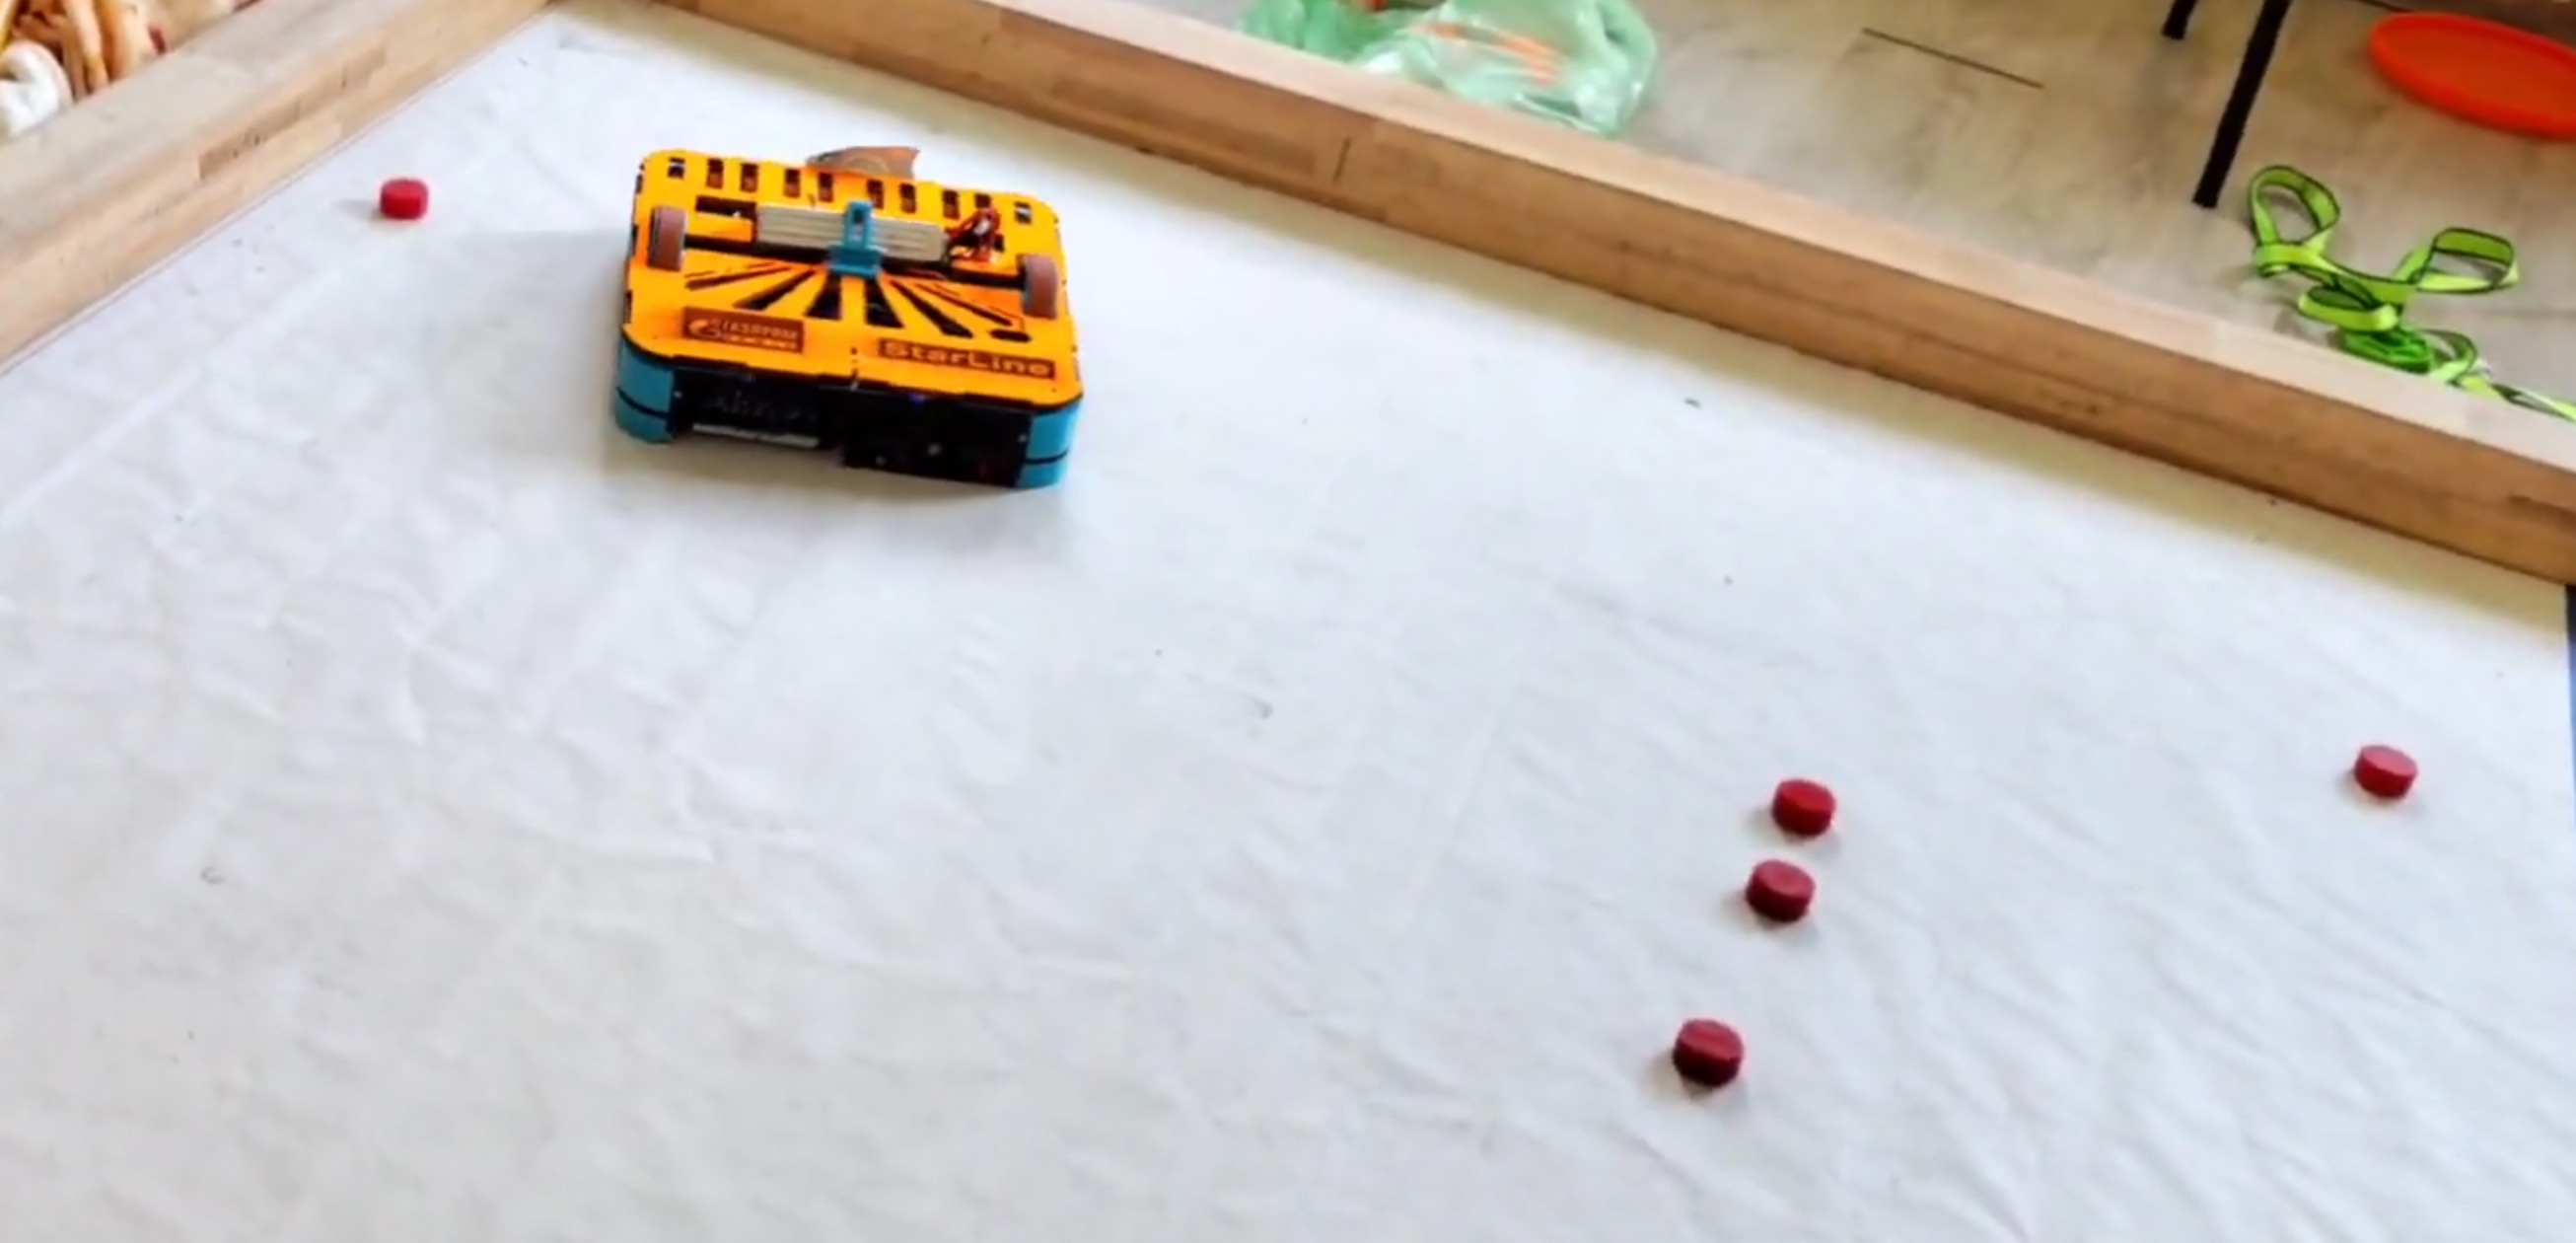red_puck: (1671, 1018, 1746, 1085), (1741, 862, 1817, 922), (2353, 743, 2417, 801), (1769, 781, 1837, 835), (376, 179, 432, 220)
